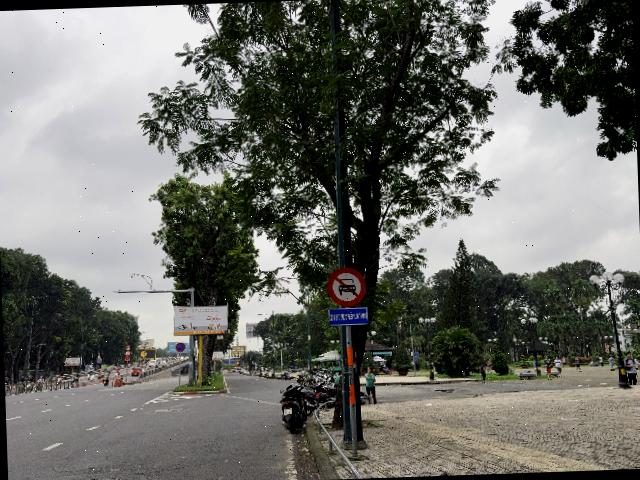cam-o-to: (326, 266, 367, 308)
